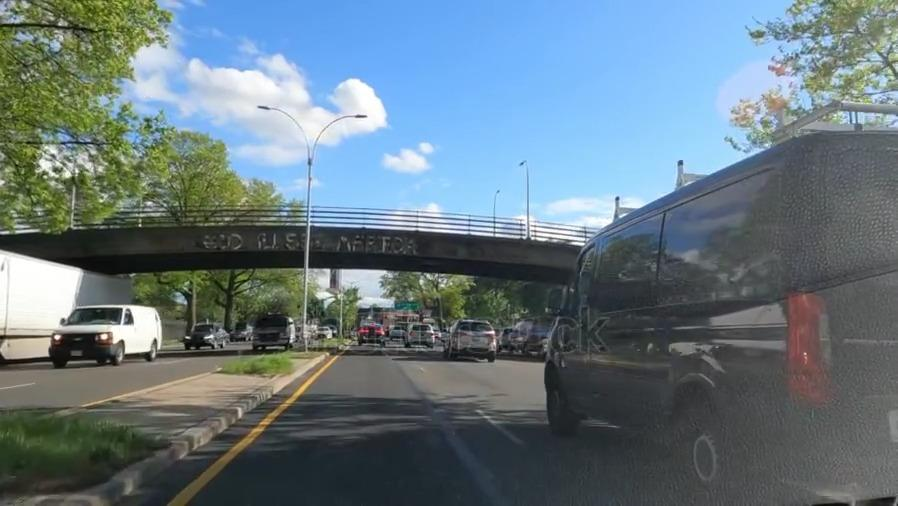car: (183, 324, 226, 348)
van: (577, 129, 895, 476), (55, 304, 165, 369), (451, 316, 498, 358), (249, 317, 297, 347), (359, 319, 388, 349), (406, 320, 437, 348)
wheel: (669, 395, 742, 496), (541, 363, 575, 434)
